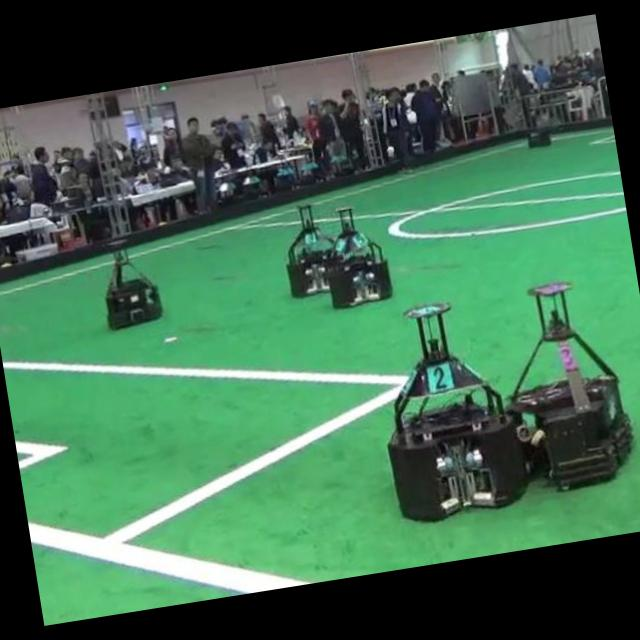robot: (389, 303, 529, 522), (508, 283, 634, 490), (329, 208, 392, 308), (106, 249, 163, 330), (288, 205, 335, 296), (529, 117, 552, 146)
